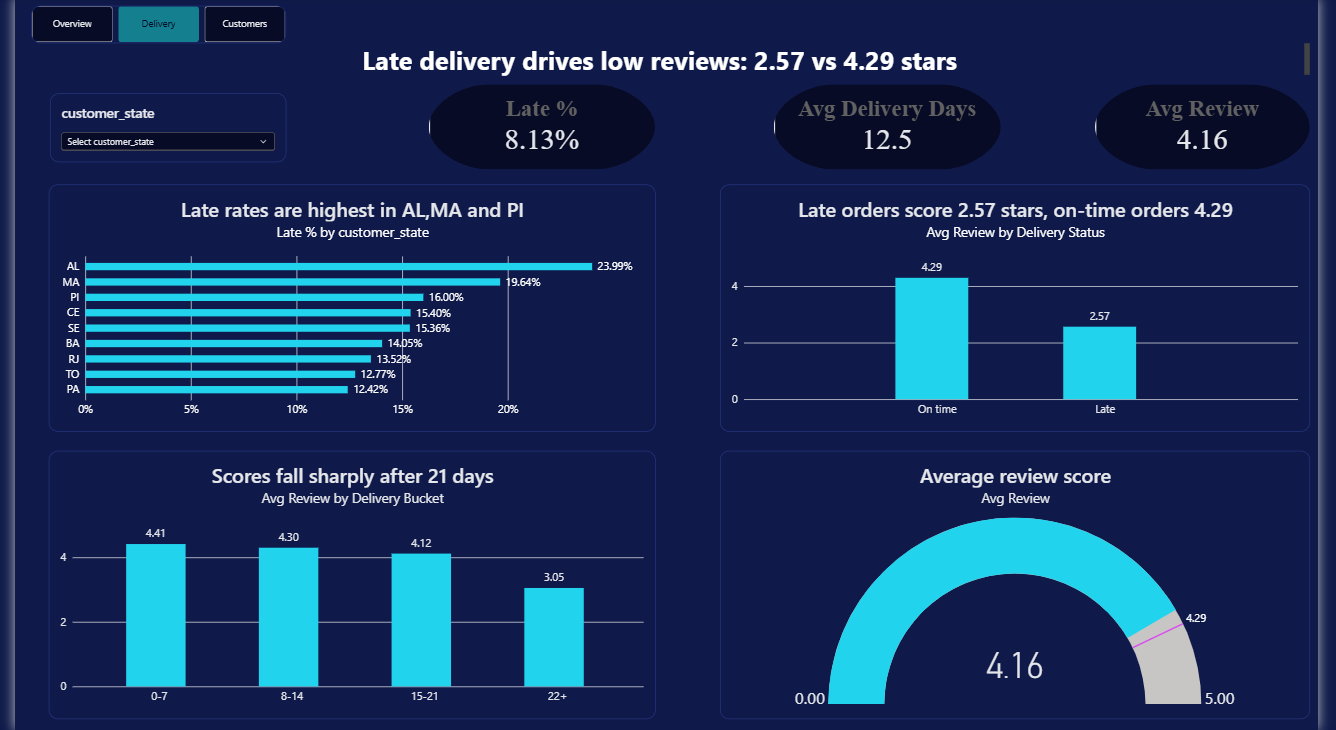

The page's visual inventory and layout, read from the dashboard file:
{"tool":"powerbi","page":{"name":"Delivery","canvas":[1920,1080],"ordinal":1},"visuals":[{"type":"cardVisual","fields":{"Data":["Orders.Late %"]},"box":[609.2,128.8,333.1,125.2],"z":0},{"type":"cardVisual","fields":{"Data":["Orders.Avg Review"]},"box":[1590.2,128.8,316.6,125.2],"z":1000},{"type":"cardVisual","fields":{"Data":["Orders.Avg Delivery Days"]},"box":[1117.2,128.8,335,125.2],"z":2000},{"type":"clusteredBarChart","title":"Late rates are highest in AL,MA and PI","fields":{"Category":["Orders.customer_state"],"Y":["Orders.Late %"]},"box":[49.4,275.8,893.3,364.3],"z":3000},{"type":"clusteredColumnChart","title":"Late orders score 2.57 stars, on-time orders 4.29","fields":{"Category":["Orders.Delivery Status"],"Y":["Orders.Avg Review"]},"box":[1037.4,275.8,868.6,364.3],"z":4000},{"type":"clusteredColumnChart","title":"Scores fall sharply after 21 days","fields":{"Category":["Orders.Delivery Bucket"],"Y":["Orders.Avg Review"]},"box":[49.4,669,893.3,395.2],"z":5000},{"type":"gauge","title":"Average review score","fields":{"Y":["Orders.Avg Review"]},"box":[1037.4,669,868.6,395.2],"z":6000},{"type":"textbox","box":[0,68.1,1906.8,47.9],"z":7000},{"type":"pageNavigator","box":[23.9,12.9,375.5,55.2],"z":8000},{"type":"listSlicer","fields":{"Values":["Orders.customer_state"]},"box":[51.5,141.7,347.9,101.2],"z":9000}]}

Visuals, with their boxes in screenshot pixels (x1, y1, x2, y2), scaled from the page's 1920x1080 canvas onto the 1336x730 screenshot:
cardVisual - Orders.Late %: 424/87/656/172
cardVisual - Orders.Avg Review: 1107/87/1327/172
cardVisual - Orders.Avg Delivery Days: 777/87/1010/172
"Late rates are highest in AL,MA and PI" clusteredBarChart: 34/186/656/433
"Late orders score 2.57 stars, on-time orders 4.29" clusteredColumnChart: 722/186/1326/433
"Scores fall sharply after 21 days" clusteredColumnChart: 34/452/656/719
"Average review score" gauge: 722/452/1326/719
textbox: 0/46/1327/78
pageNavigator: 17/9/278/46
listSlicer - Orders.customer_state: 36/96/278/164
